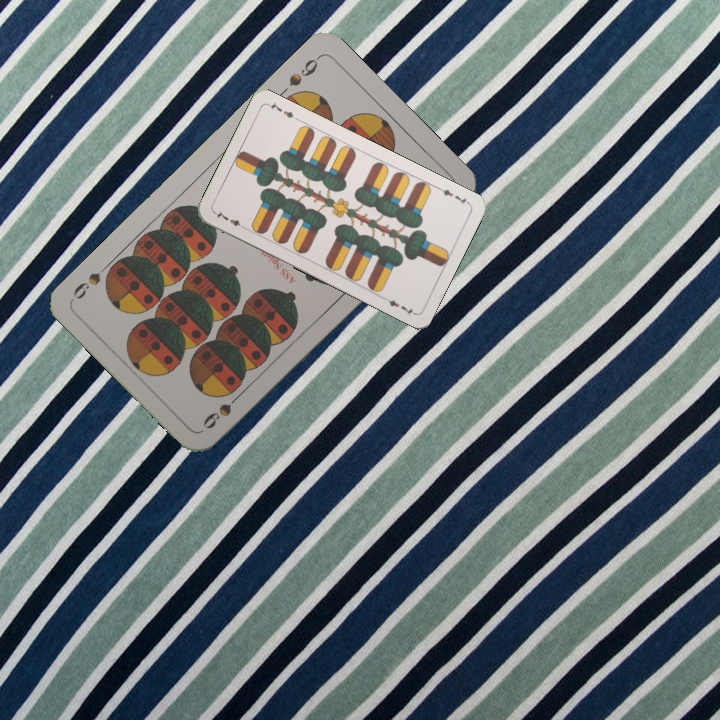E7: (211, 206, 249, 232), (434, 183, 472, 207)
S9: (198, 387, 246, 432), (284, 52, 323, 89)
